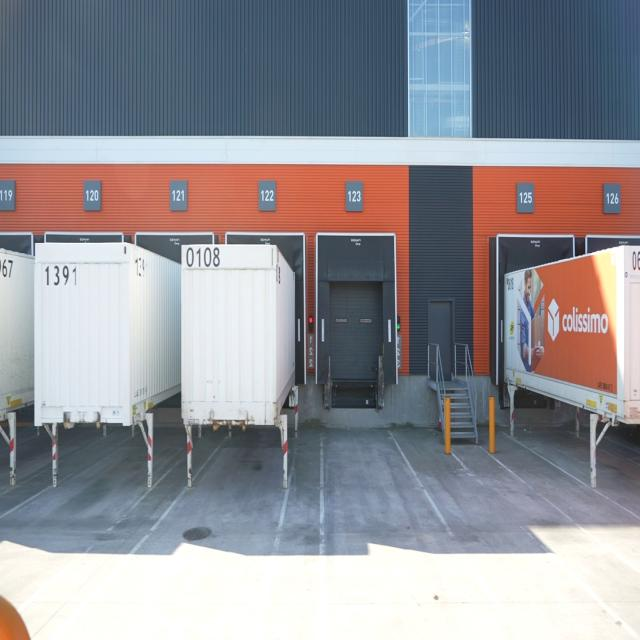Code: (42, 260, 82, 291), (183, 242, 223, 272)
